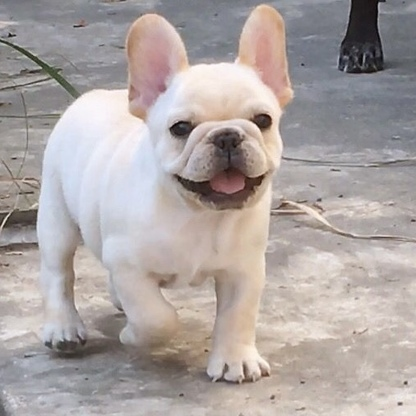bulldog: (43, 11, 295, 384)
